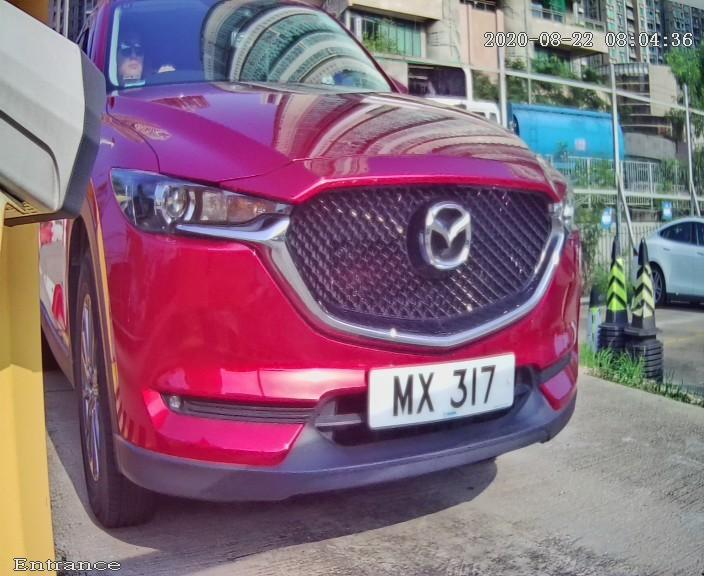Car: (10, 6, 629, 556)
License Plate: (345, 334, 530, 439)
